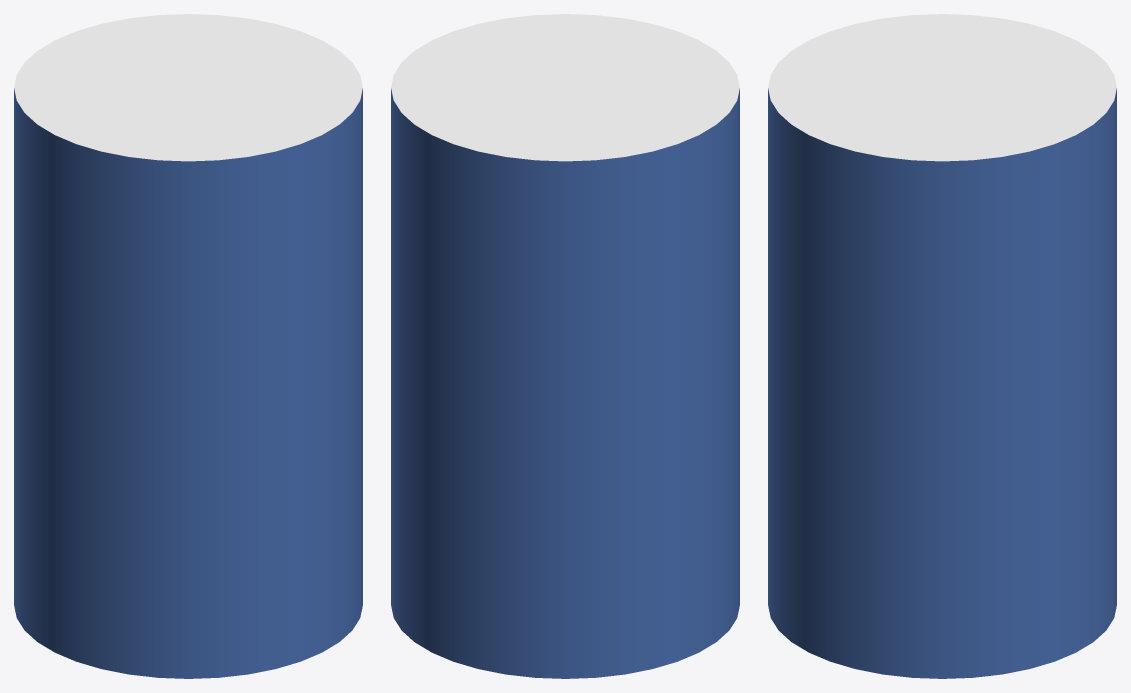
3 renders of one model, left to right at view 1: azimuth 30°, elevation 25°; view 2: azimuth 150°, elevation 25°; view 3: azimuth 270°, elevation 25°, orthographic.
Parts seen in each view (by area): view 1: Model; view 2: Model; view 3: Model.
Part boxes in pixels (x1,y1,x2,y2): Model: [14, 14, 362, 678]; Model: [391, 14, 739, 678]; Model: [768, 14, 1116, 678].
Size of the model in its own units: 8672 by 14195 by 8672.
